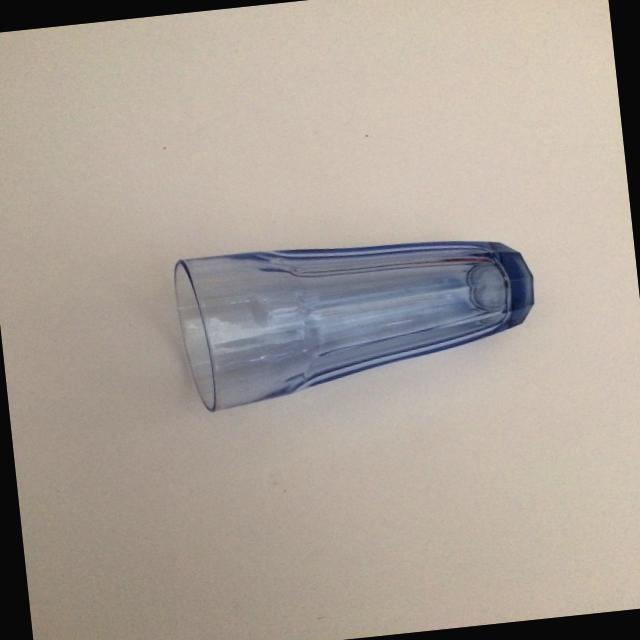Glass: (142, 211, 570, 422)
